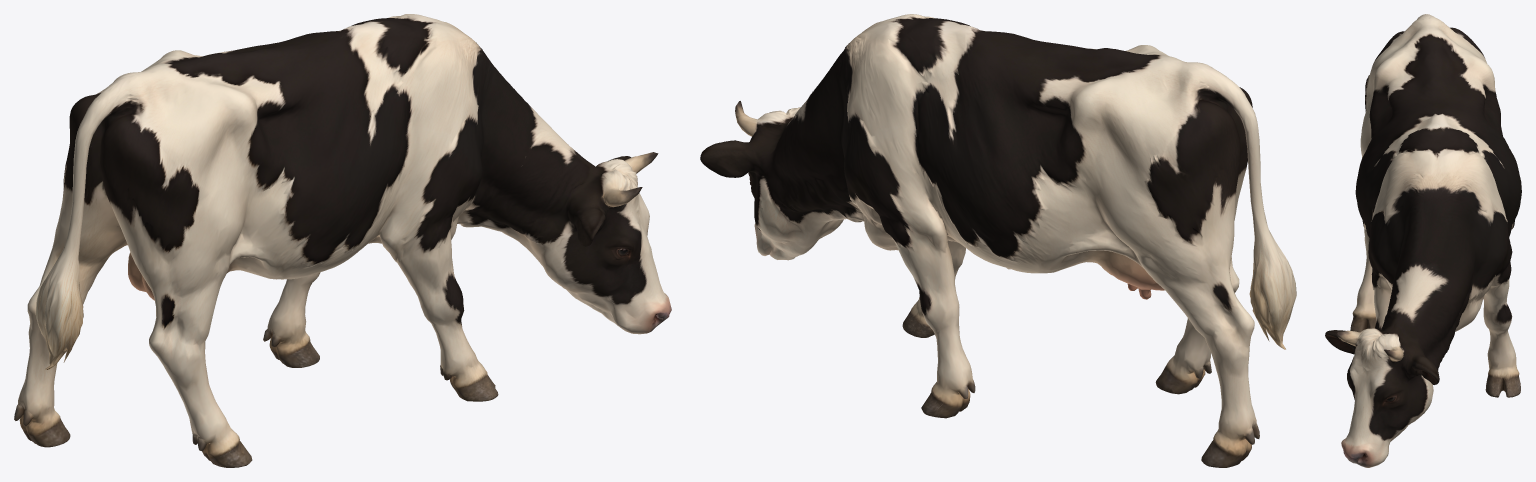
File: cow-tripo.glb
3 views of the same model, side by side, from view 1: azimuth 30°, elevation 25°; view 2: azimuth 150°, elevation 25°; view 3: azimuth 270°, elevation 25° (orthographic). The views are drawn at different scales.
Visible parts, largest first — view 1: tripo_node_d32486df-302c-4a0d-a3f5-6ff08cc88a44; view 2: tripo_node_d32486df-302c-4a0d-a3f5-6ff08cc88a44; view 3: tripo_node_d32486df-302c-4a0d-a3f5-6ff08cc88a44.
Boxes of the visible parts, <box> form: tripo_node_d32486df-302c-4a0d-a3f5-6ff08cc88a44: <box>14,14,671,467</box>; tripo_node_d32486df-302c-4a0d-a3f5-6ff08cc88a44: <box>700,14,1296,467</box>; tripo_node_d32486df-302c-4a0d-a3f5-6ff08cc88a44: <box>1325,14,1521,467</box>.
Bounding box in the file's own units: 0.9816 × 0.5829 × 0.3561.
Materials: 1 (1 with a texture image).
